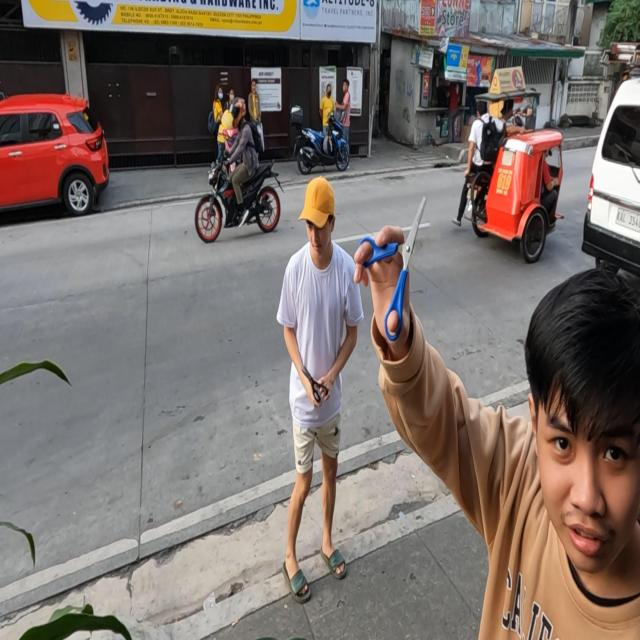scissor: (358, 197, 441, 341), (300, 360, 331, 408)
